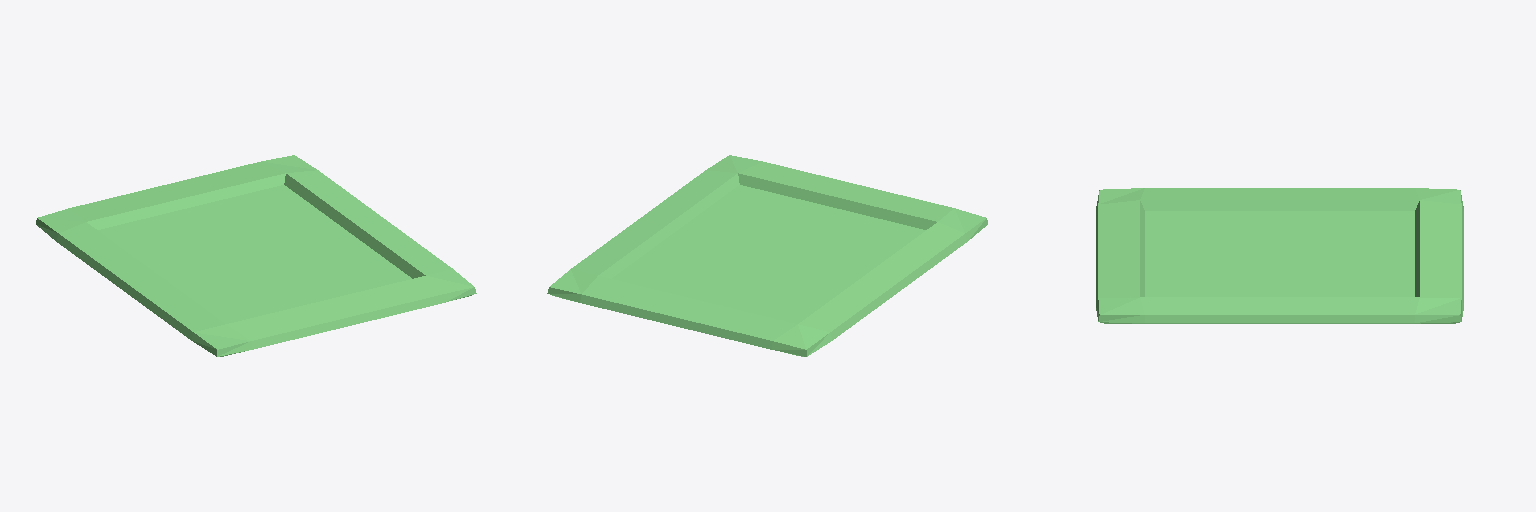
Rendered from Prop_Painting-Frame_low.obj.
3 renders of one model, left to right at view 1: azimuth 30°, elevation 25°; view 2: azimuth 150°, elevation 25°; view 3: azimuth 270°, elevation 25°, orthographic.
Visible parts, largest first — view 1: Box001; view 2: Box001; view 3: Box001.
Part boxes in pixels (left/top/right/bottom): Box001: left=36, top=155, right=476, bottom=356; Box001: left=547, top=155, right=987, bottom=356; Box001: left=1096, top=188, right=1463, bottom=323.
Bounding box in the file's own units: 13.66 × 0.714 × 16.5.